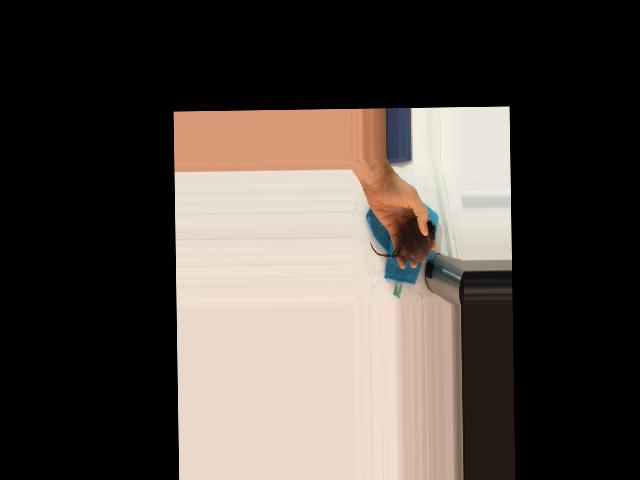beet: (369, 216, 435, 263)
